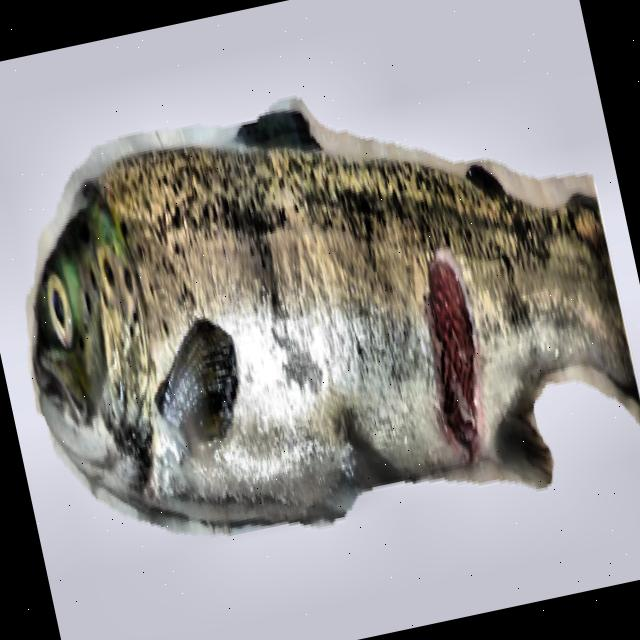mild_red: (99, 139, 638, 520)
wound: (428, 258, 479, 457)
